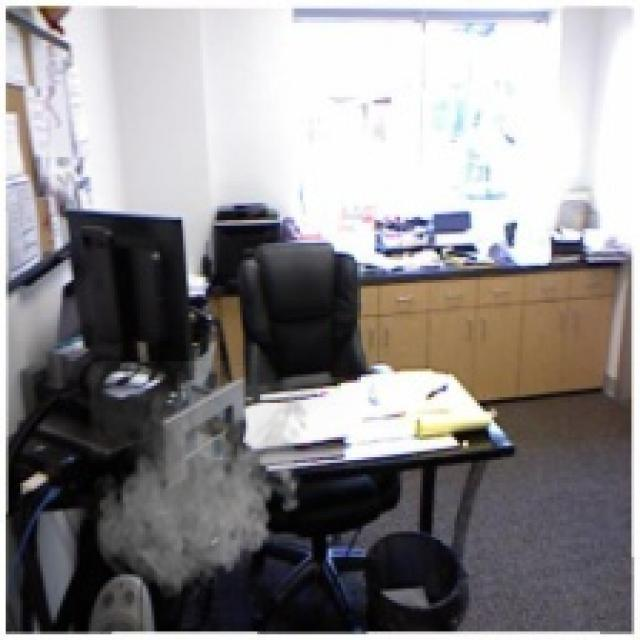Smoke: (88, 360, 314, 606)
